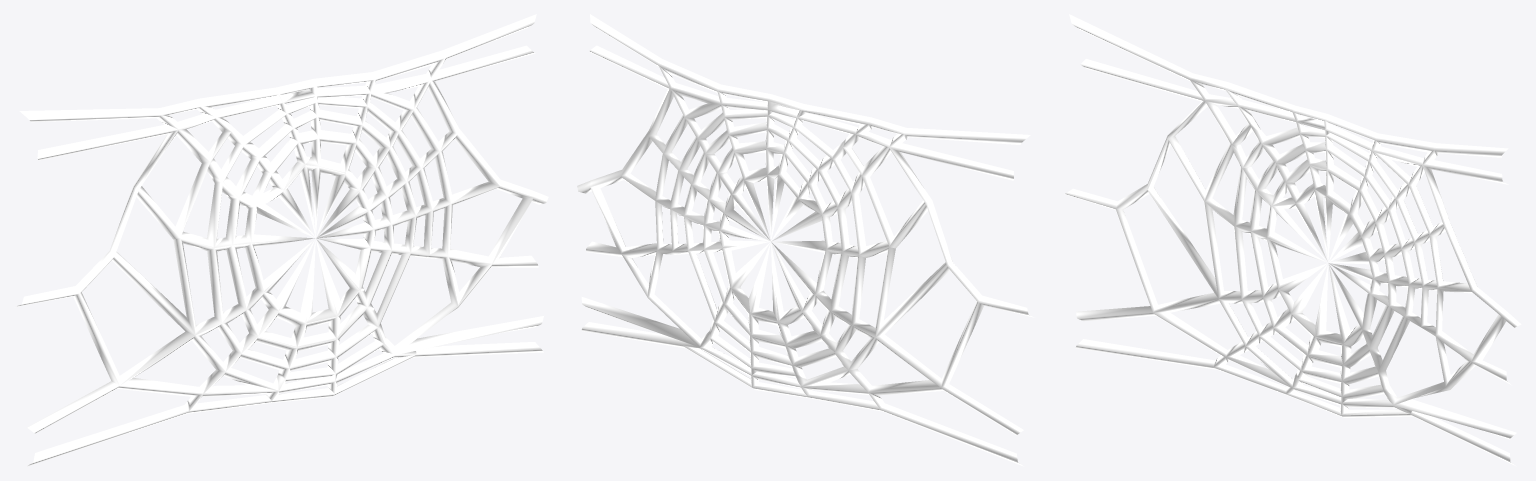
Rendered from SpiderWeb3D.glb.
3 renders of one model, left to right at view 1: azimuth 30°, elevation 25°; view 2: azimuth 150°, elevation 25°; view 3: azimuth 330°, elevation 25°, orthographic. The views are drawn at different scales.
Parts seen in each view (by area): view 1: SpiderWeb3D; view 2: SpiderWeb3D; view 3: SpiderWeb3D.
Part boxes in pixels (x1,y1,x2,y2): SpiderWeb3D: (15, 14, 548, 466); SpiderWeb3D: (577, 14, 1034, 466); SpiderWeb3D: (1064, 14, 1521, 466).
Size of what is drawn, in the model's own units: 3.1 by 2.07 by 0.2882.
Materials: 1 (1 with a texture image).
